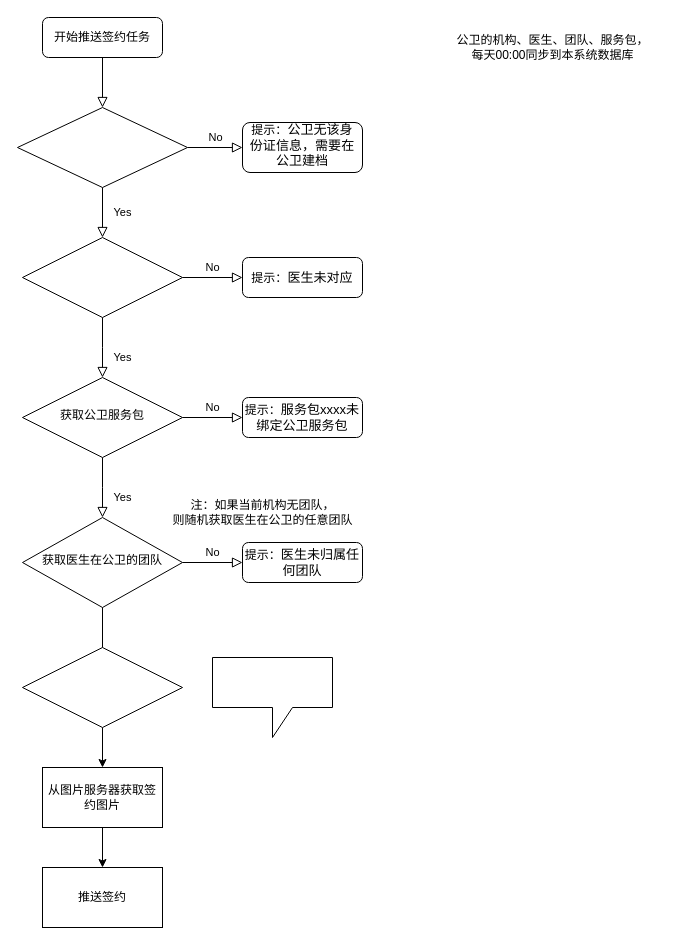
Image size: 680x945. Some labels were removed from this diagram. Here are the shapes that lost their labels. From the top down, the centre of each, then its label:
point (102, 147): 获取公卫档案编号
point (102, 277): 获取公卫医生
point (102, 687): 接口获取签约角色信息
point (272, 697): 本地缓存公卫角色信息，缓存时间3小时
